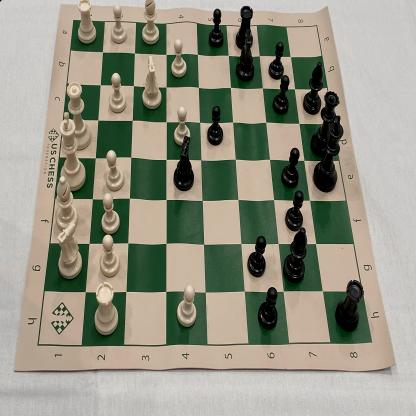bishop: (101, 191, 120, 235)
black-bishop: (283, 226, 307, 284), (304, 60, 322, 115)
black-king: (313, 114, 344, 191)
black-knight: (171, 134, 196, 192), (236, 27, 254, 82)
black-pawn: (256, 286, 278, 330), (246, 236, 268, 278), (283, 192, 305, 232), (271, 76, 290, 115), (207, 104, 224, 147), (208, 8, 224, 48)
black-queen: (314, 89, 341, 150)
black-rook: (335, 279, 365, 333), (235, 3, 254, 50), (268, 41, 284, 82)
white-bishop: (53, 174, 79, 231), (141, 0, 161, 44)
white-king: (57, 112, 86, 191)
white-knight: (55, 219, 82, 279), (140, 53, 164, 110)
white-pawn: (175, 282, 197, 327), (104, 150, 126, 191), (100, 233, 120, 278), (108, 73, 126, 114), (110, 4, 128, 44), (174, 104, 190, 144), (171, 39, 186, 79)
white-queen: (65, 80, 92, 150)
white-rook: (93, 280, 118, 335), (75, 0, 98, 45), (280, 146, 300, 190)
